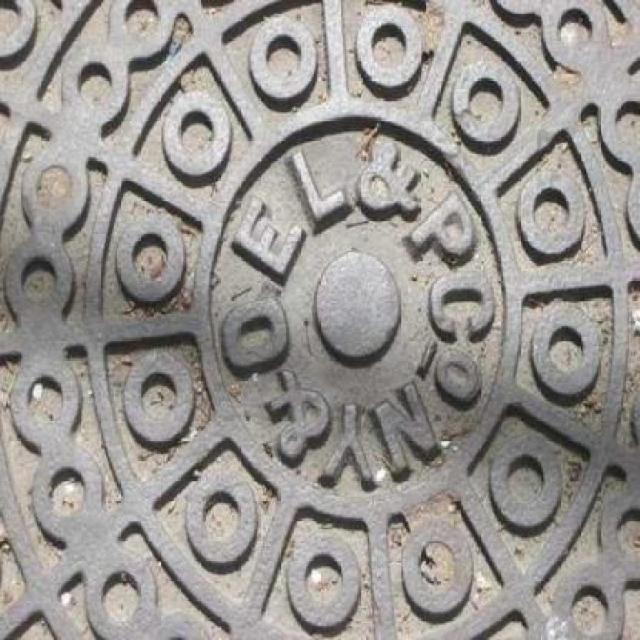Manhole: (1, 13, 637, 619)
